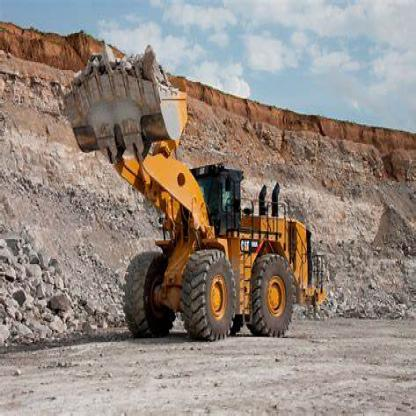bull_dozer/loader/grader: (57, 40, 330, 351)
